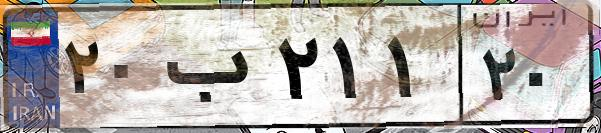0: (525, 38, 570, 115), (110, 28, 158, 98)
1: (385, 28, 445, 110), (330, 28, 385, 110)
2: (270, 28, 330, 110), (57, 26, 110, 100), (475, 38, 525, 113)
ب: (158, 20, 270, 120)
